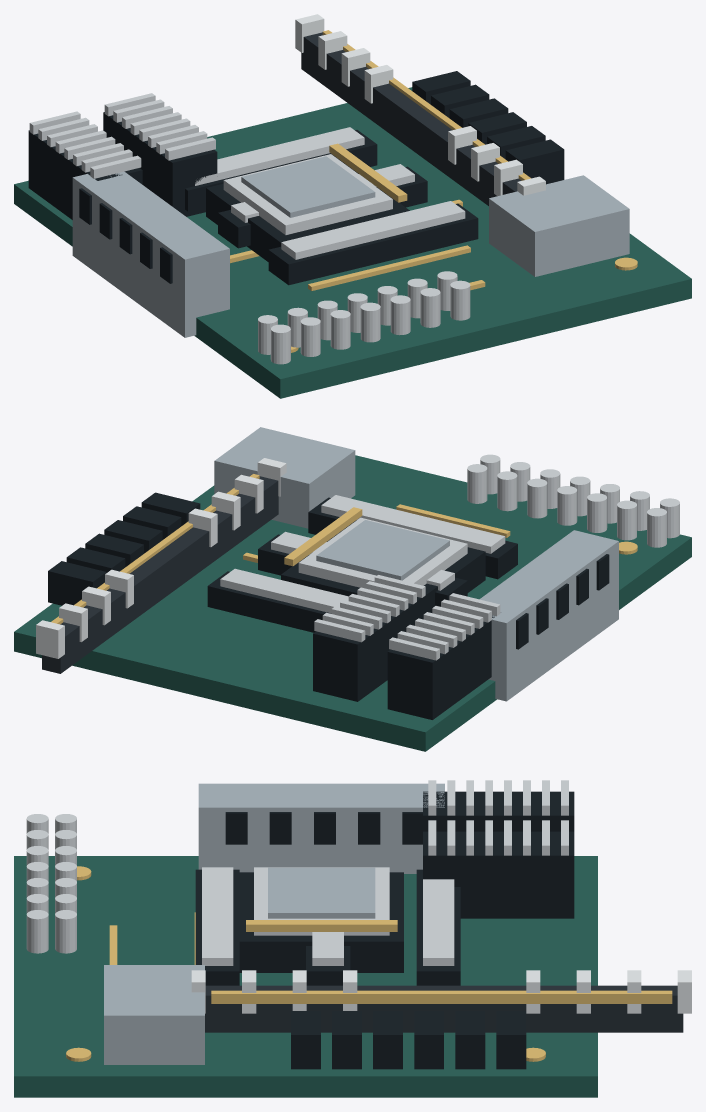
File: x670-atx.glb
3 views of the same model, one above another, from view 1: azimuth 30°, elevation 25°; view 2: azimuth 150°, elevation 25°; view 3: azimuth 270°, elevation 25° (orthographic). The views are drawn at different scales.
Parts seen in each view (by area): view 1: x670-atx; view 2: x670-atx; view 3: x670-atx.
Boxes of the visible parts, <box> form: x670-atx: <box>14,14,691,398</box>; x670-atx: <box>14,427,691,751</box>; x670-atx: <box>14,780,691,1097</box>.
Bounding box in the file's own units: 1.7 × 0.3625 × 2.15.
